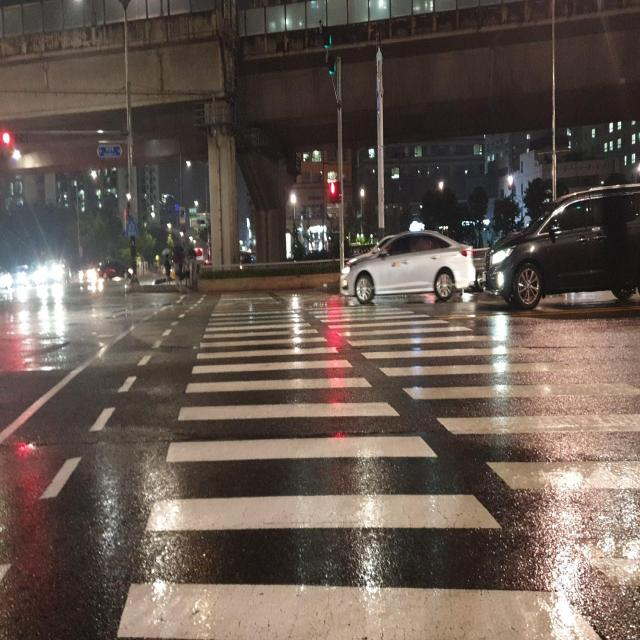빨간불: (328, 182, 338, 209)
횡단보도: (118, 293, 640, 639)
